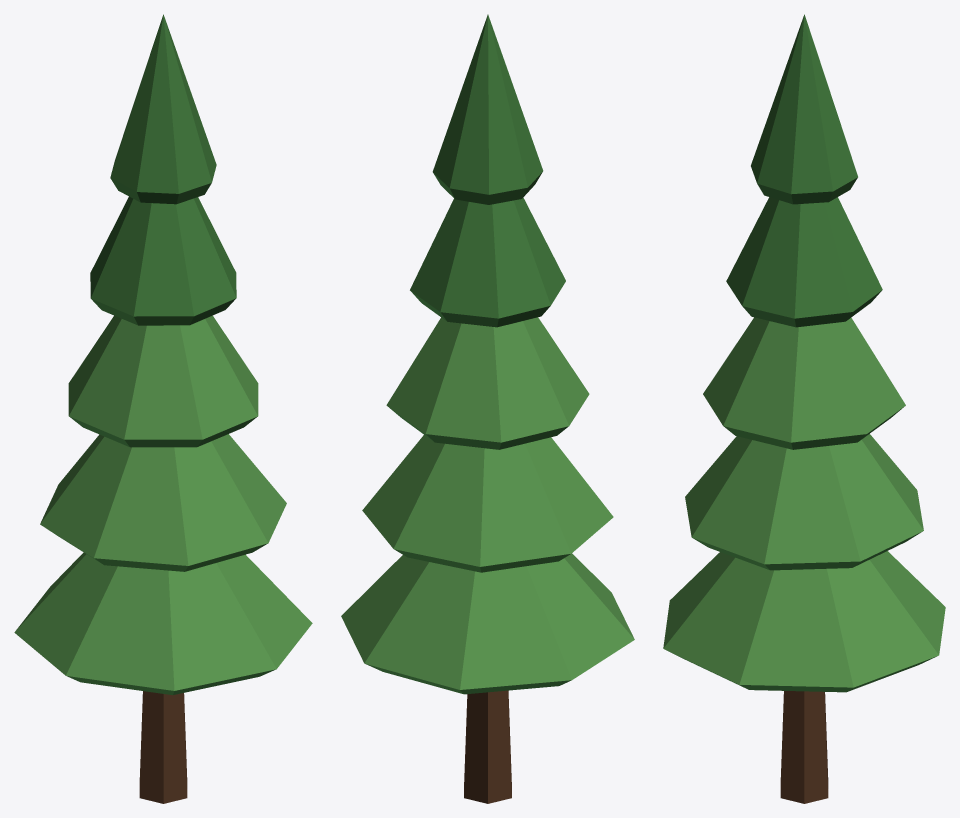
File: tree_pineDefaultB.glb
3 views of the same model, side by side, from view 1: azimuth 30°, elevation 25°; view 2: azimuth 150°, elevation 25°; view 3: azimuth 270°, elevation 25° (orthographic).
Visible parts, largest first — view 1: tree_pineDefaultB; view 2: tree_pineDefaultB; view 3: tree_pineDefaultB.
Boxes of the visible parts, x1=… form: tree_pineDefaultB: x1=14, y1=14, x2=312, y2=803; tree_pineDefaultB: x1=341, y1=14, x2=634, y2=803; tree_pineDefaultB: x1=663, y1=14, x2=945, y2=803.
Size of the model in its own units: 0.5099 by 1.55 by 0.5099.
Materials: 1 (1 with a texture image).
